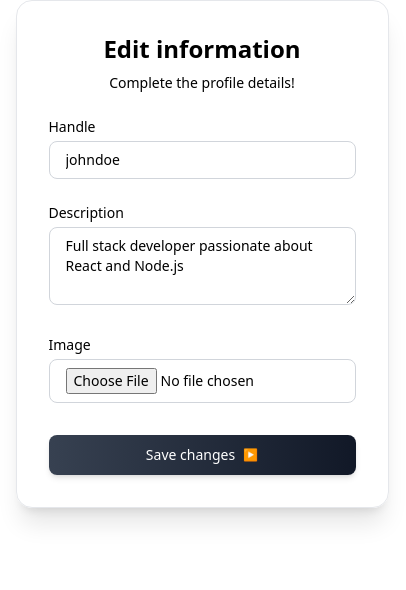
Test: ProfileView with MSW › should validate form fields before submission
# Clear required fields and try to submit
Clear the field with placeholder "Handle or user name" at [202, 160], box [48,141,356,179]
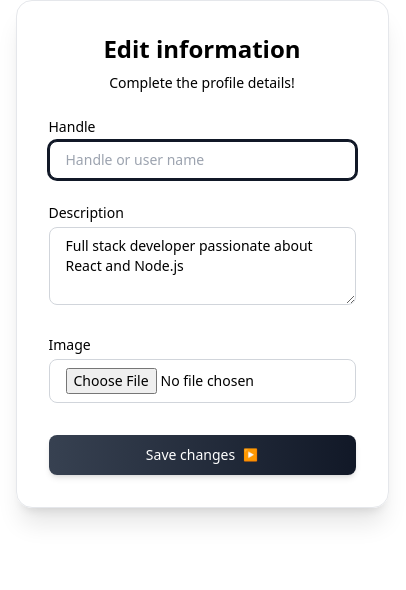
Clear the text box with placeholder "Your description" at [202, 266], box [48,227,356,305]
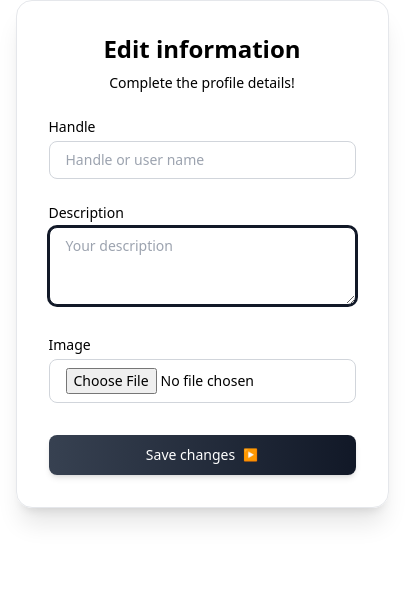
Click the button "Save changes ▶".
click(202, 455)  # box [48,435,356,475]
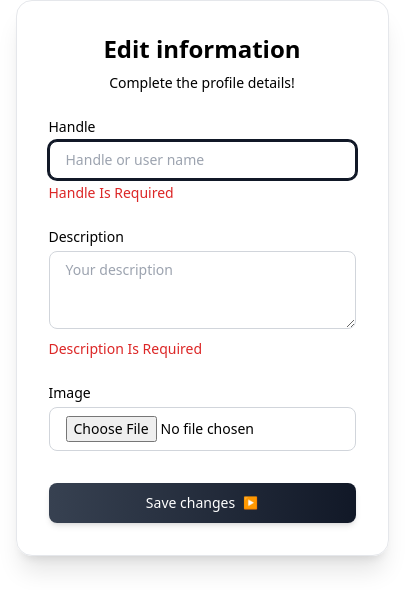
Check: the text "handle is required" is shown, box [48,183,174,202]
Check: the text "description is required" is shown, box [48,339,202,358]
